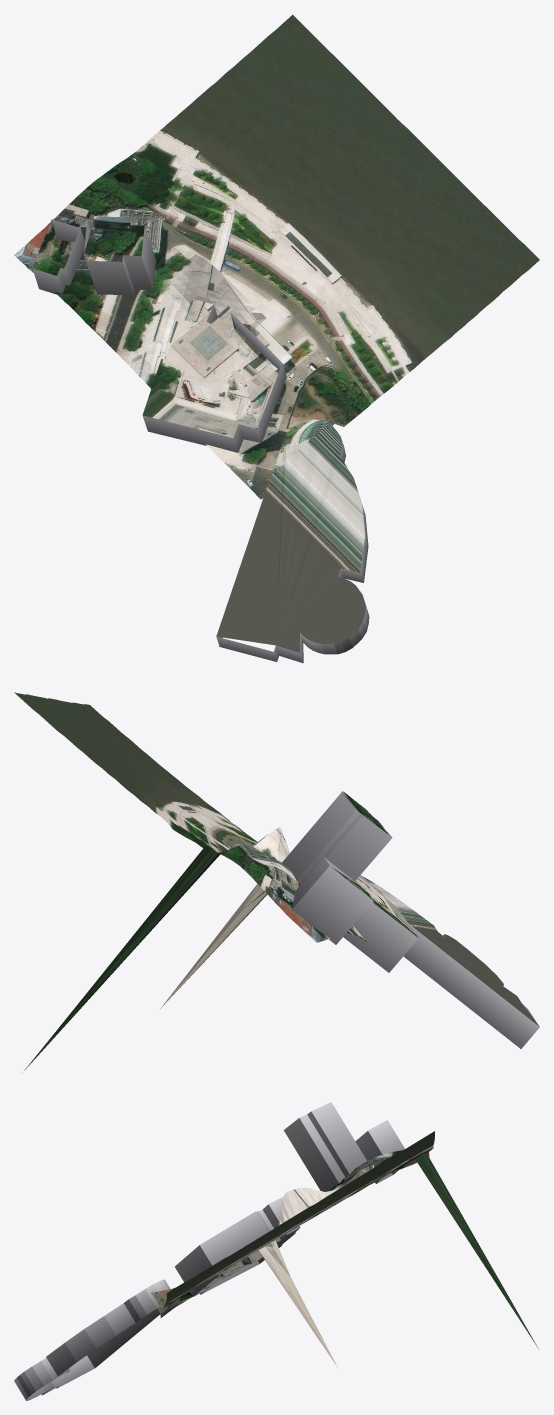
3 renders of one model, top to bottom at view 1: azimuth 30°, elevation 25°; view 2: azimuth 150°, elevation 25°; view 3: azimuth 270°, elevation 25°, orthographic. The views are drawn at different scales.
Size of the model in its own units: 312 by 326 by 436.
Materials: 1 (1 with a texture image).
